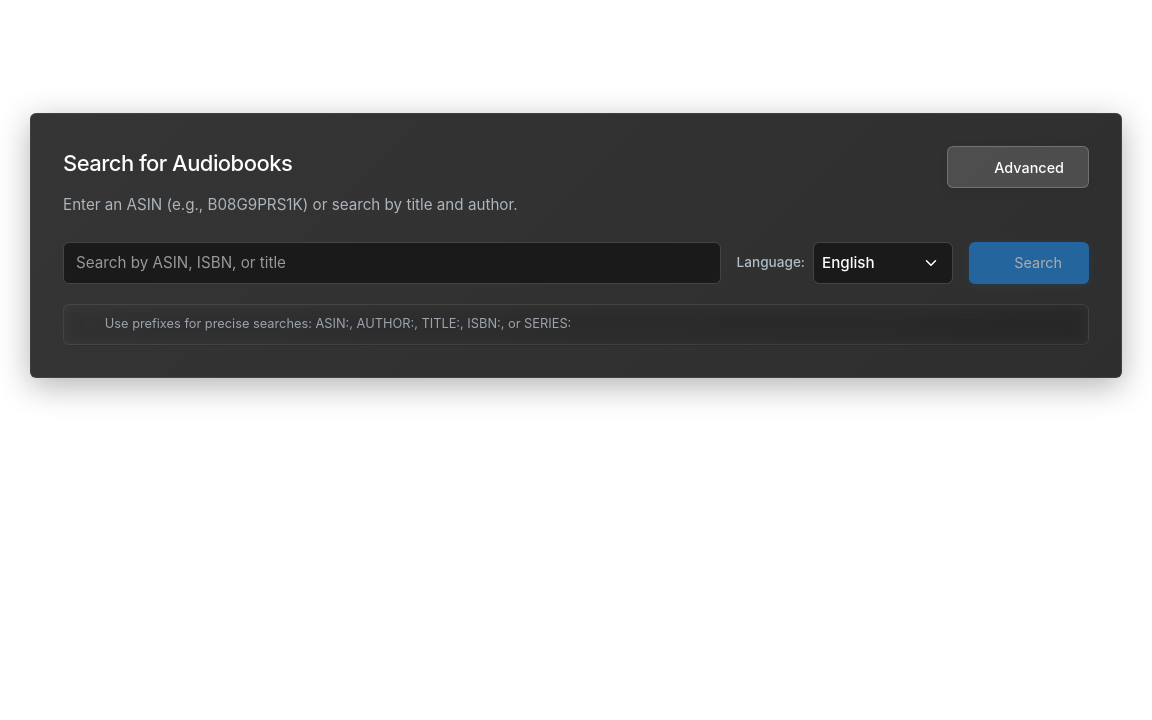
AddNewView pagination › shows language options in the add new search selects
Expected: the dropdown with class "language-select" is shown, x1=813 y1=242 x2=953 y2=284
What coordinates should you click on to do the following:
click the button with class "advanced-btn"
I would click on:
 (1018, 167)
Its box is x1=947 y1=146 x2=1089 y2=188.
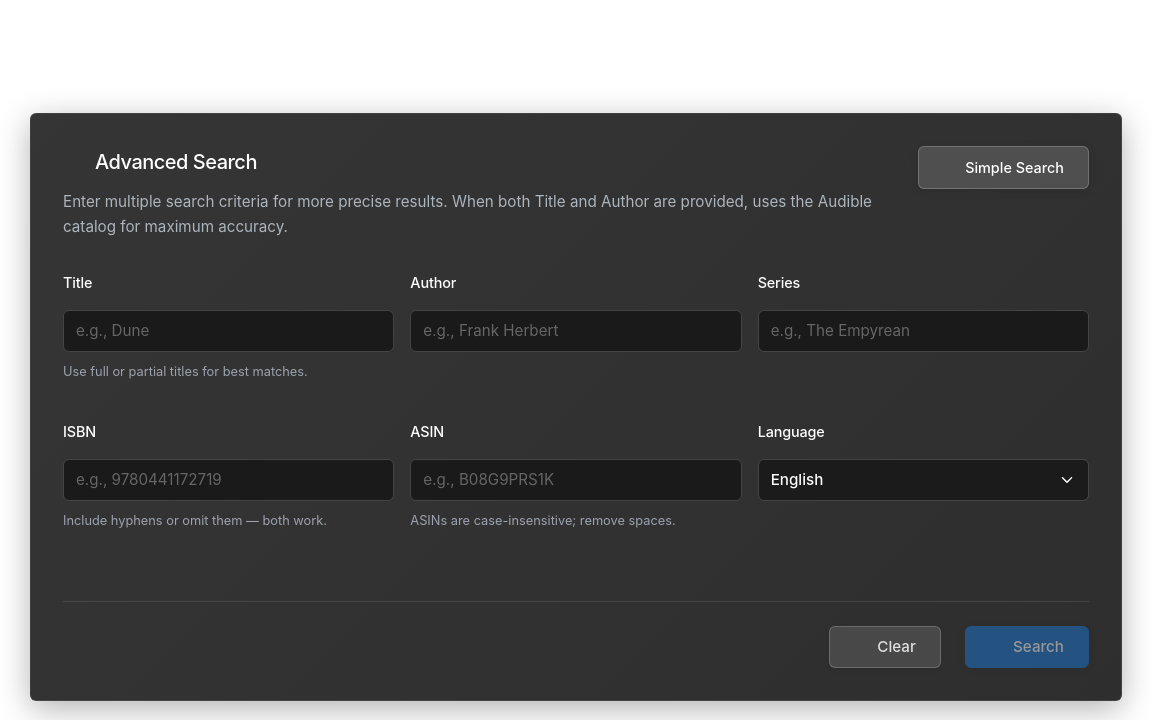
Expected: the label "Language" is shown, x1=758 y1=423 x2=825 y2=440
Result: the dropdown with id "adv-language" is shown at x1=758 y1=459 x2=1089 y2=501
